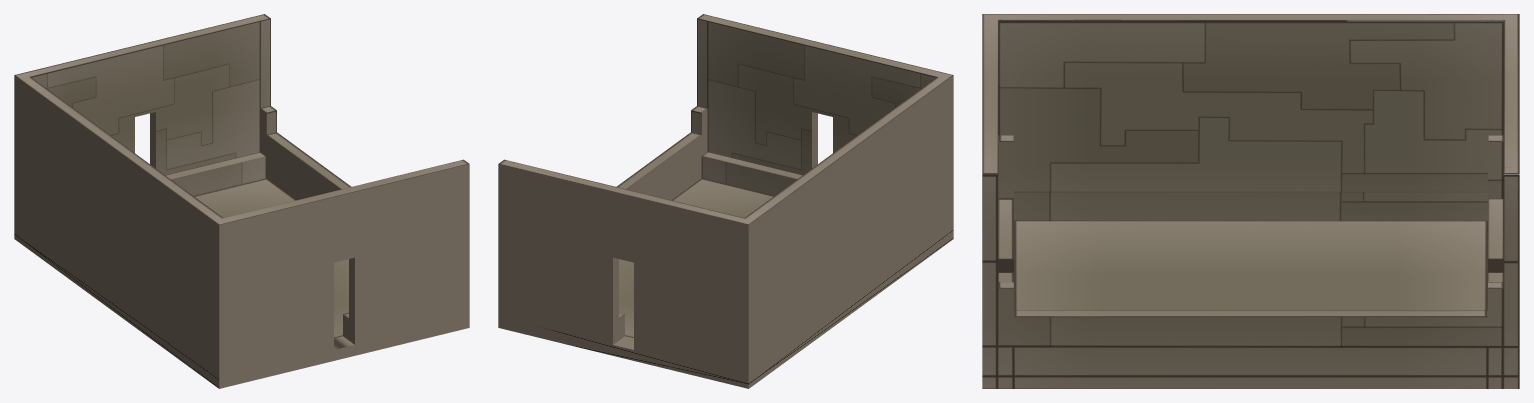
File: TowerStoneCrumblingPuzzleRoom.fbx
3 renders of one model, left to right at view 1: azimuth 30°, elevation 25°; view 2: azimuth 150°, elevation 25°; view 3: azimuth 270°, elevation 25°, orthographic. The views are drawn at different scales.
Visible parts, largest first — view 1: Room; view 2: Room; view 3: Room.
Boxes of the visible parts, x1,y1,x2,y2 form: Room: (14,14,469,388); Room: (498,14,953,388); Room: (982,14,1519,388).
Bounding box in the file's own units: 2400 × 1500 × 3400.
